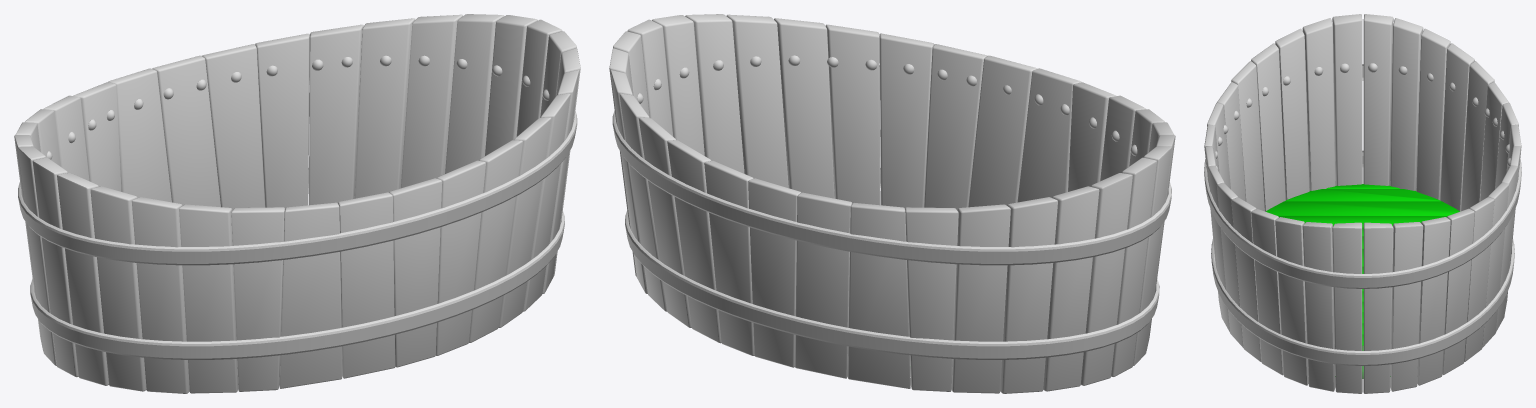
Rendered from traditional Japanese ofuro.fbx.
The picture shows the model from 3 angles, left to right: view 1: azimuth 30°, elevation 25°; view 2: azimuth 150°, elevation 25°; view 3: azimuth 270°, elevation 25°; orthographic projection. The views are drawn at different scales.
Parts seen in each view (by area): view 1: SM_Balia; view 2: SM_Balia; view 3: SM_Balia.
Part boxes in pixels (left/top/right/bottom): SM_Balia: left=14, top=14, right=580, bottom=393; SM_Balia: left=609, top=14, right=1175, bottom=393; SM_Balia: left=1204, top=14, right=1521, bottom=393.
Bounding box in the file's own units: 349 × 134 × 219.
